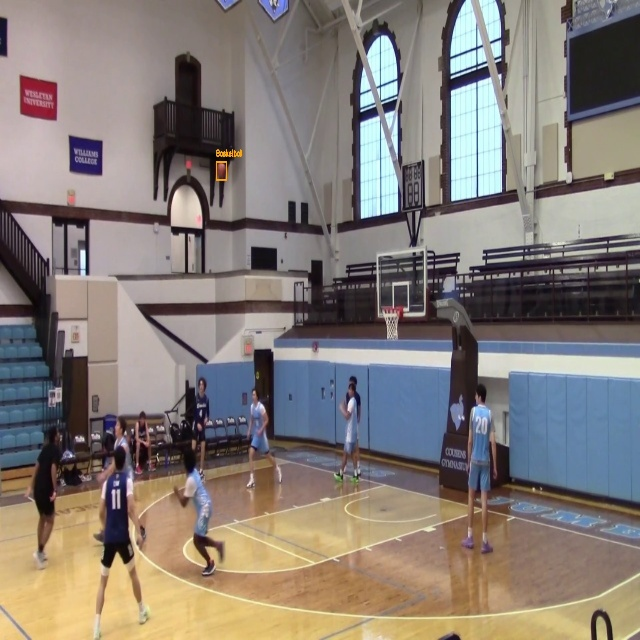Basketball: (216, 162, 226, 180)
